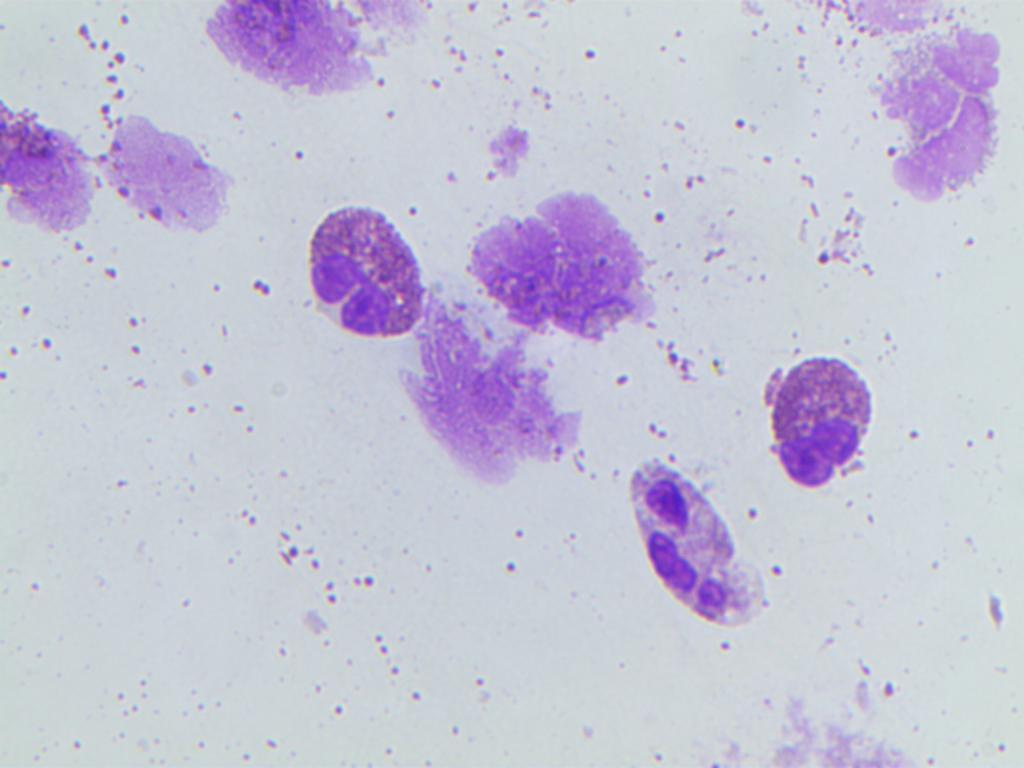artifact: (393, 289, 586, 488), (461, 166, 661, 340), (868, 21, 1014, 208), (192, 0, 433, 104), (92, 103, 237, 244)
eosinophil: (736, 330, 872, 513), (291, 190, 445, 345), (0, 89, 107, 272)
neutrophil: (603, 469, 781, 653)
